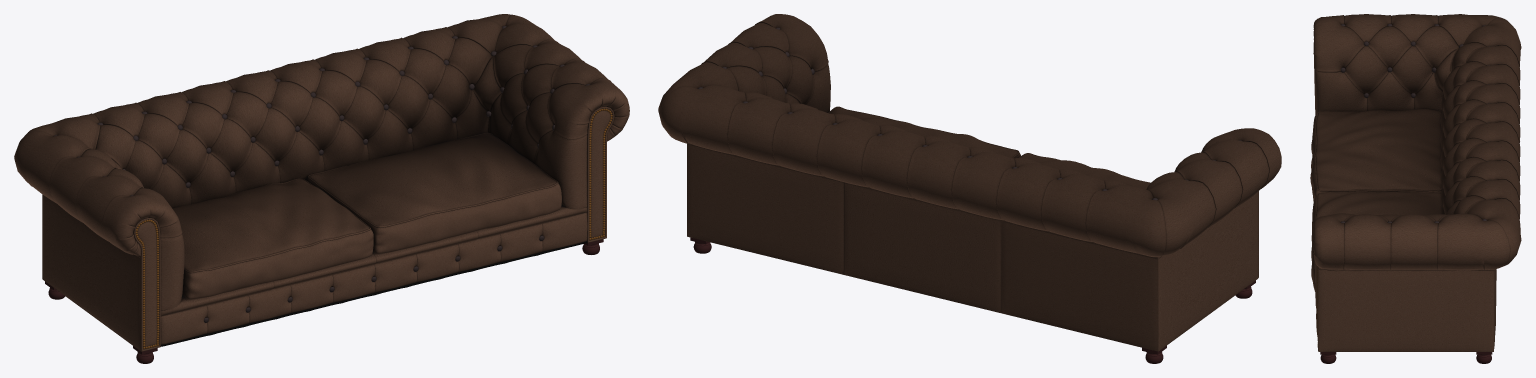
Rendered from sofa_web.glb.
The picture shows the model from 3 angles, left to right: view 1: azimuth 30°, elevation 25°; view 2: azimuth 150°, elevation 25°; view 3: azimuth 270°, elevation 25°; orthographic projection. The views are drawn at different scales.
Parts seen in each view (by area): view 1: pasted__sofabody2, pasted__sodametals, pasted__sofabuttons, pasted__sofalegs; view 2: pasted__sofabody2, pasted__sofalegs; view 3: pasted__sofabody2, pasted__sofalegs, pasted__sofabuttons.
Part boxes in pixels (x1=…): pasted__sofabody2: x1=14, y1=14, x2=629, y2=351; pasted__sodametals: x1=135, y1=108, x2=612, y2=349; pasted__sofabuttons: x1=54, y1=26, x2=590, y2=322; pasted__sofalegs: x1=45, y1=239, x2=603, y2=363; pasted__sofabody2: x1=658, y1=14, x2=1281, y2=351; pasted__sofalegs: x1=690, y1=237, x2=1255, y2=363; pasted__sofabody2: x1=1310, y1=14, x2=1521, y2=351; pasted__sofalegs: x1=1320, y1=352, x2=1492, y2=363; pasted__sofabuttons: x1=1341, y1=23, x2=1489, y2=222.
Bounding box in the file's own units: 1215 × 373 × 482.
4 materials, 1 textured.
